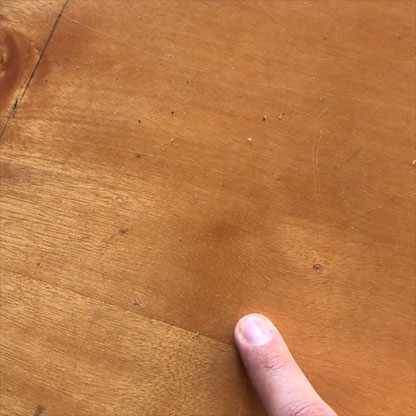fingertip: (225, 304, 297, 360)
